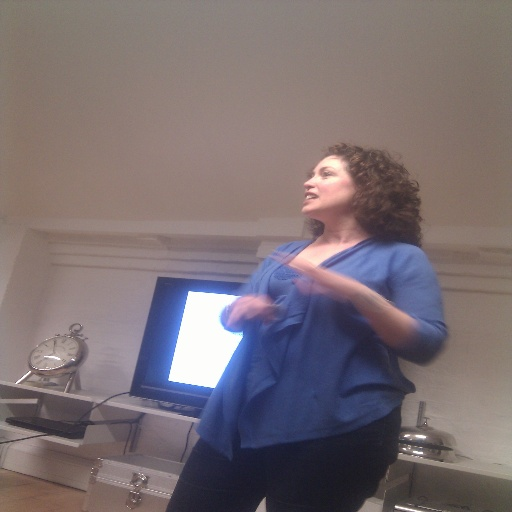hand: (270, 255, 356, 301), (229, 292, 287, 336)
